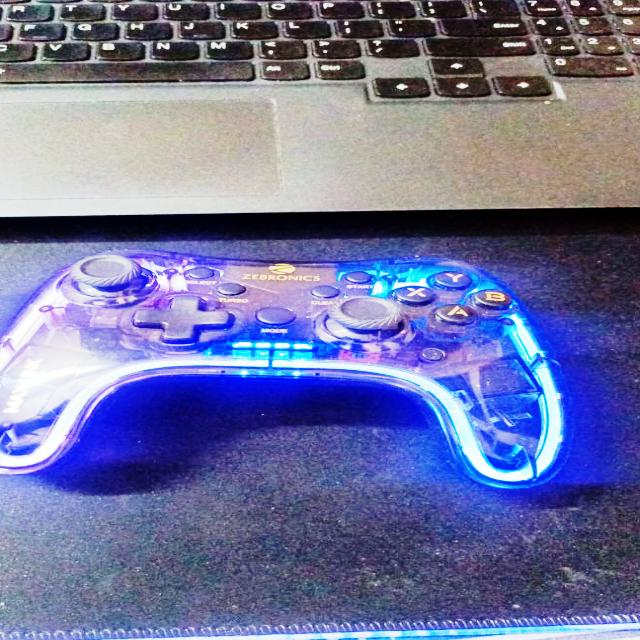gamepad: (0, 246, 575, 494)
